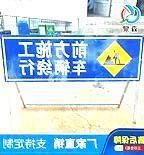sign: (1, 34, 143, 81)
